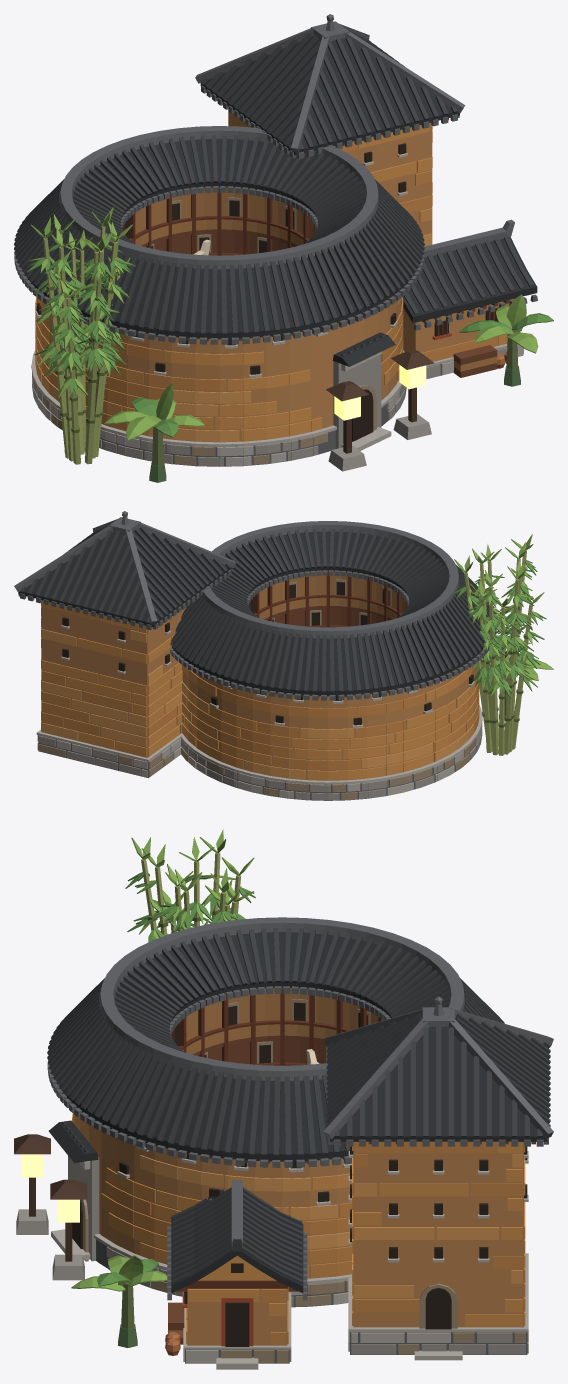
File: tulou_village.glb
The picture shows the model from 3 angles, top to bottom: view 1: azimuth 30°, elevation 25°; view 2: azimuth 150°, elevation 25°; view 3: azimuth 270°, elevation 25°; orthographic projection. The views are drawn at different scales.
Visible parts, largest first — view 1: tulou_village_TV_RoofCharcoal, tulou_village_TV_RoofDeep, tulou_village_TV_RoofCharcoalEdge, tulou_village_TV_Earth, tulou_village_TV_TulouEarth, tulou_village_TV_LeafFreshLight, tulou_village_TV_LeafFresh, tulou_village_TV_Culm, tulou_village_TV_FootingLight, tulou_village_TV_TulouEarthDeep, tulou_village_TV_Footing, tulou_village_TV_TimberDark (+14 smaller); view 2: tulou_village_TV_RoofCharcoal, tulou_village_TV_RoofDeep, tulou_village_TV_TulouEarth, tulou_village_TV_Earth, tulou_village_TV_RoofCharcoalEdge, tulou_village_TV_TulouEarthDeep, tulou_village_TV_TulouEarthLight, tulou_village_TV_FootingLight, tulou_village_TV_Culm, tulou_village_TV_LeafFresh, tulou_village_TV_LeafFreshLight, tulou_village_TV_Footing (+8 smaller); view 3: tulou_village_TV_RoofCharcoal, tulou_village_TV_Earth, tulou_village_TV_RoofDeep, tulou_village_TV_RoofCharcoalEdge, tulou_village_TV_TulouEarth, tulou_village_TV_TulouEarthDeep, tulou_village_TV_FootingLight, tulou_village_TV_TulouEarthLight, tulou_village_TV_LeafFreshLight, tulou_village_TV_TimberDark, tulou_village_TV_Footing, tulou_village_TV_EaveUnderside (+11 smaller).
Part boxes in pixels (x1=…): tulou_village_TV_RoofCharcoal: x1=14, y1=30, x2=533, y2=356; tulou_village_TV_RoofDeep: x1=23, y1=35, x2=537, y2=366; tulou_village_TV_RoofCharcoalEdge: x1=14, y1=14, x2=537, y2=466; tulou_village_TV_Earth: x1=36, y1=109, x2=514, y2=442; tulou_village_TV_TulouEarth: x1=35, y1=123, x2=520, y2=441; tulou_village_TV_LeafFreshLight: x1=27, y1=207, x2=538, y2=440; tulou_village_TV_LeafFresh: x1=27, y1=244, x2=553, y2=437; tulou_village_TV_Culm: x1=43, y1=226, x2=120, y2=464; tulou_village_TV_FootingLight: x1=31, y1=153, x2=523, y2=466; tulou_village_TV_TulouEarthDeep: x1=35, y1=126, x2=496, y2=430; tulou_village_TV_Footing: x1=33, y1=348, x2=507, y2=466; tulou_village_TV_TimberDark: x1=122, y1=187, x2=498, y2=336; tulou_village_TV_RoofCharcoal: x1=20, y1=524, x2=496, y2=691; tulou_village_TV_RoofDeep: x1=18, y1=529, x2=484, y2=696; tulou_village_TV_TulouEarth: x1=41, y1=603, x2=479, y2=780; tulou_village_TV_Earth: x1=41, y1=603, x2=476, y2=780; tulou_village_TV_RoofCharcoalEdge: x1=14, y1=511, x2=496, y2=800; tulou_village_TV_TulouEarthDeep: x1=41, y1=600, x2=479, y2=769; tulou_village_TV_TulouEarthLight: x1=41, y1=607, x2=475, y2=779; tulou_village_TV_FootingLight: x1=36, y1=625, x2=482, y2=798; tulou_village_TV_Culm: x1=464, y1=550, x2=532, y2=755; tulou_village_TV_LeafFresh: x1=455, y1=560, x2=546, y2=698; tulou_village_TV_LeafFreshLight: x1=454, y1=534, x2=553, y2=696; tulou_village_TV_Footing: x1=37, y1=728, x2=482, y2=800; tulou_village_TV_RoofCharcoal: x1=47, y1=928, x2=550, y2=1283; tulou_village_TV_Earth: x1=73, y1=1112, x2=523, y2=1345; tulou_village_TV_RoofDeep: x1=48, y1=932, x2=547, y2=1293; tulou_village_TV_RoofCharcoalEdge: x1=47, y1=917, x2=553, y2=1363; tulou_village_TV_TulouEarth: x1=72, y1=1113, x2=525, y2=1344; tulou_village_TV_TulouEarthDeep: x1=101, y1=1141, x2=525, y2=1345; tulou_village_TV_FootingLight: x1=51, y1=1133, x2=528, y2=1369; tulou_village_TV_TulouEarthLight: x1=140, y1=1154, x2=525, y2=1325; tulou_village_TV_LeafFreshLight: x1=71, y1=829, x2=254, y2=1291; tulou_village_TV_TimberDark: x1=171, y1=987, x2=383, y2=1303; tulou_village_TV_Footing: x1=68, y1=1156, x2=528, y2=1361; tulou_village_TV_EaveUnderside: x1=186, y1=987, x2=378, y2=1041.
Size of the model in its own units: 4.07 by 2.23 by 3.35.
